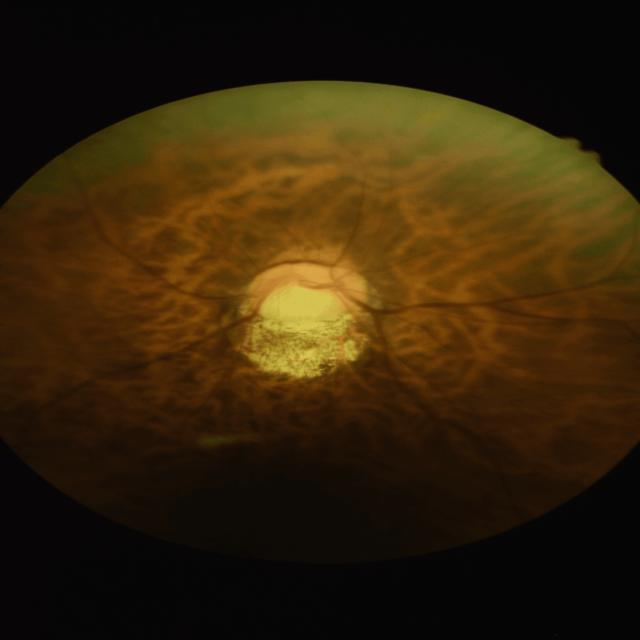cup: (259, 278, 348, 324)
disk: (246, 261, 370, 329)
